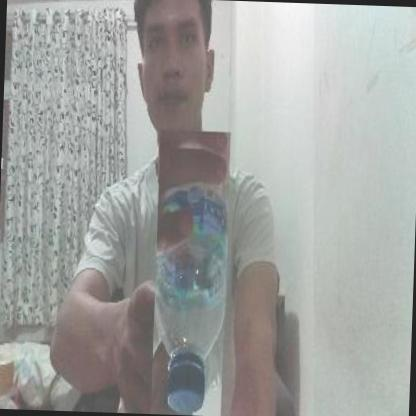plastic_bottles: (150, 129, 230, 416)
